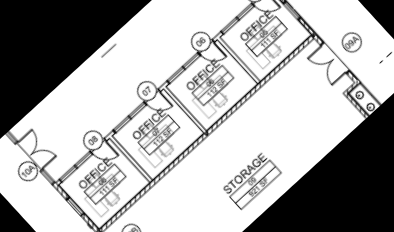door: (142, 87, 178, 122), (196, 37, 232, 72), (62, 193, 89, 220), (251, 0, 284, 22)
double door: (304, 39, 353, 89), (12, 126, 61, 175), (88, 135, 124, 171)
wall: (340, 88, 370, 121), (295, 13, 322, 41), (339, 77, 363, 100), (343, 67, 364, 88), (262, 0, 291, 7)
window: (93, 31, 318, 232)
